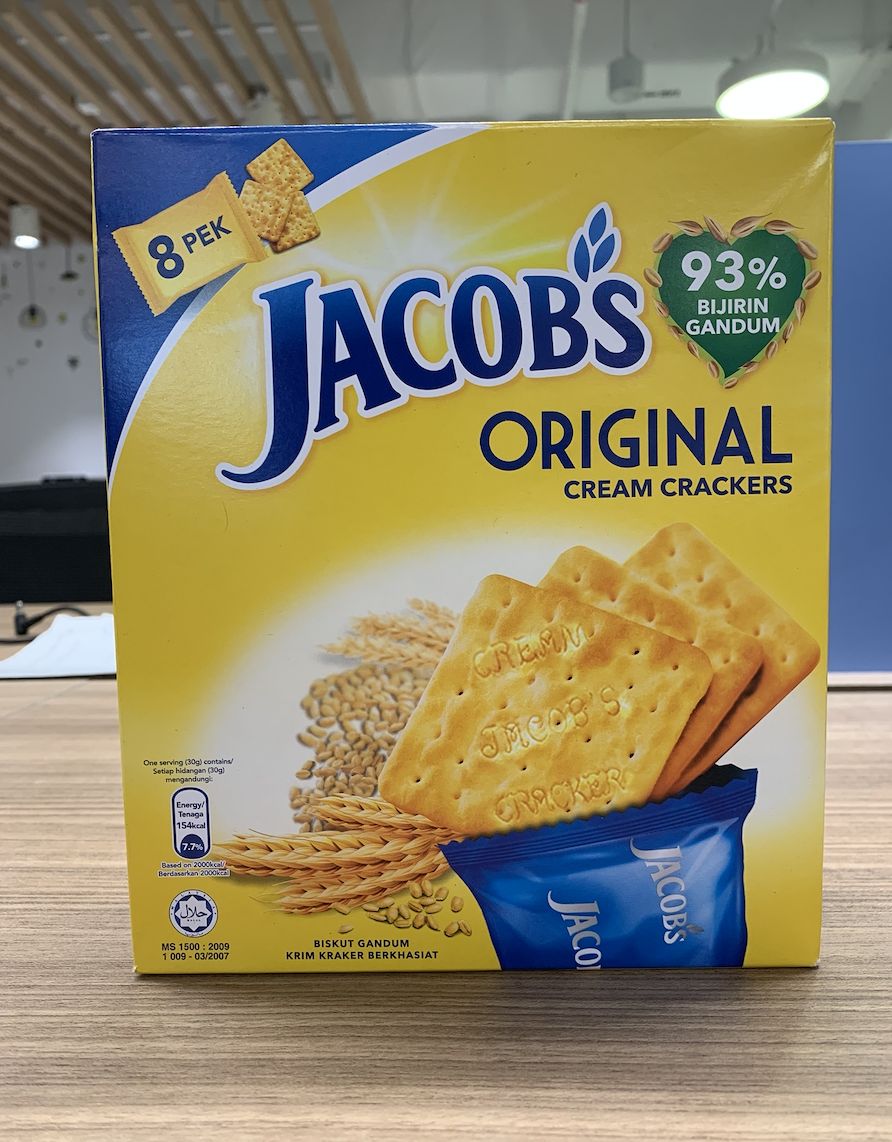crackers_150g: (142, 144, 818, 976)
